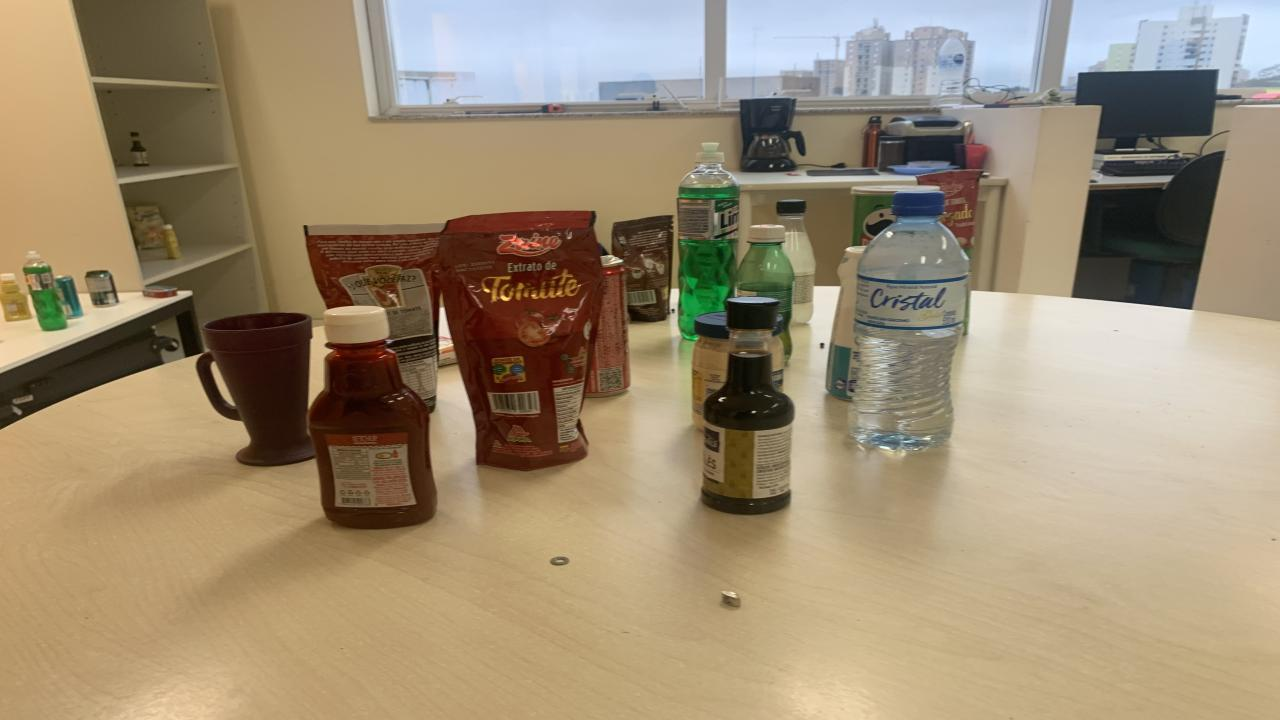Cleaner-Cleanup_Items: (825, 246, 865, 399)
Coffee-Pantry_Items: (612, 216, 672, 322)
Coke-Drinks: (585, 264, 630, 398)
Detergent-Cleanup_Items: (678, 144, 740, 339)
English_Sauce-Pantry_Items: (702, 296, 795, 488), (702, 439, 790, 514)
Guarana-Drinks: (735, 225, 795, 358)
Ketchup-Pantry_Items: (308, 306, 438, 529)
Mayonnaise-Pantry_Items: (692, 311, 730, 429)
Pringles-Snacks: (850, 186, 938, 246)
Soap-Cleanup_Items: (438, 336, 458, 368)
Soda-Drinks: (778, 199, 815, 322)
Tomato_Sauce-Pantry_Items: (440, 212, 602, 471), (305, 223, 445, 411), (918, 169, 980, 249)
Water_Bottle-Drinks: (848, 191, 970, 450)
